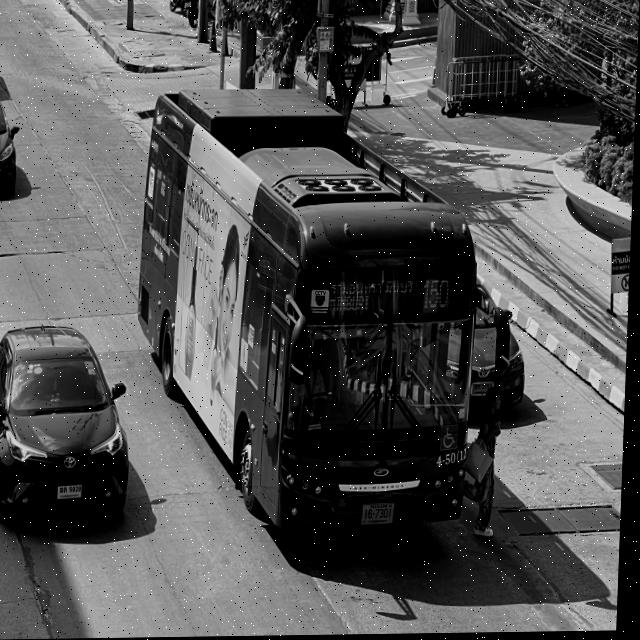Bus Line Number: (421, 275, 458, 314)
Bus Side Number: (437, 447, 471, 467)
Destination Sign: (328, 276, 421, 321)
TSB-Bus: (140, 89, 478, 535)
